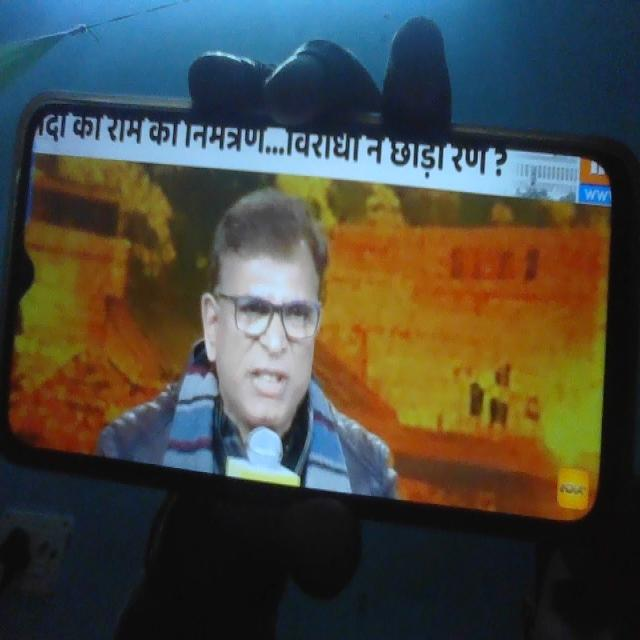fake: (199, 197, 331, 447)
